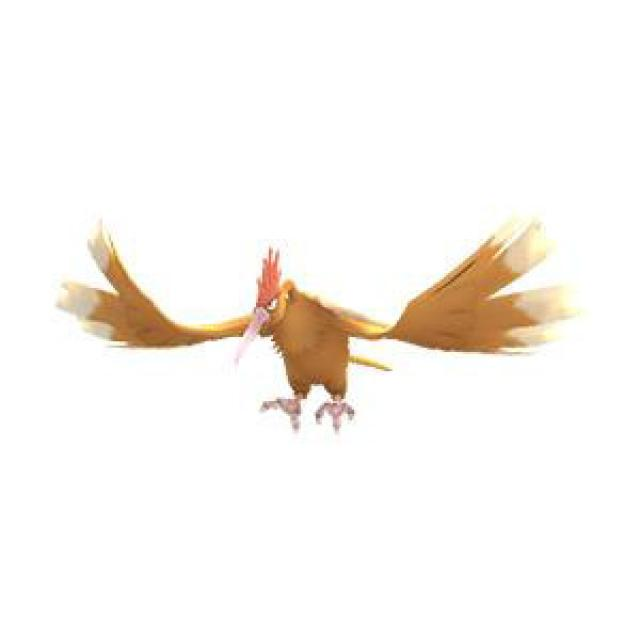Fearow: (162, 246, 428, 437)
